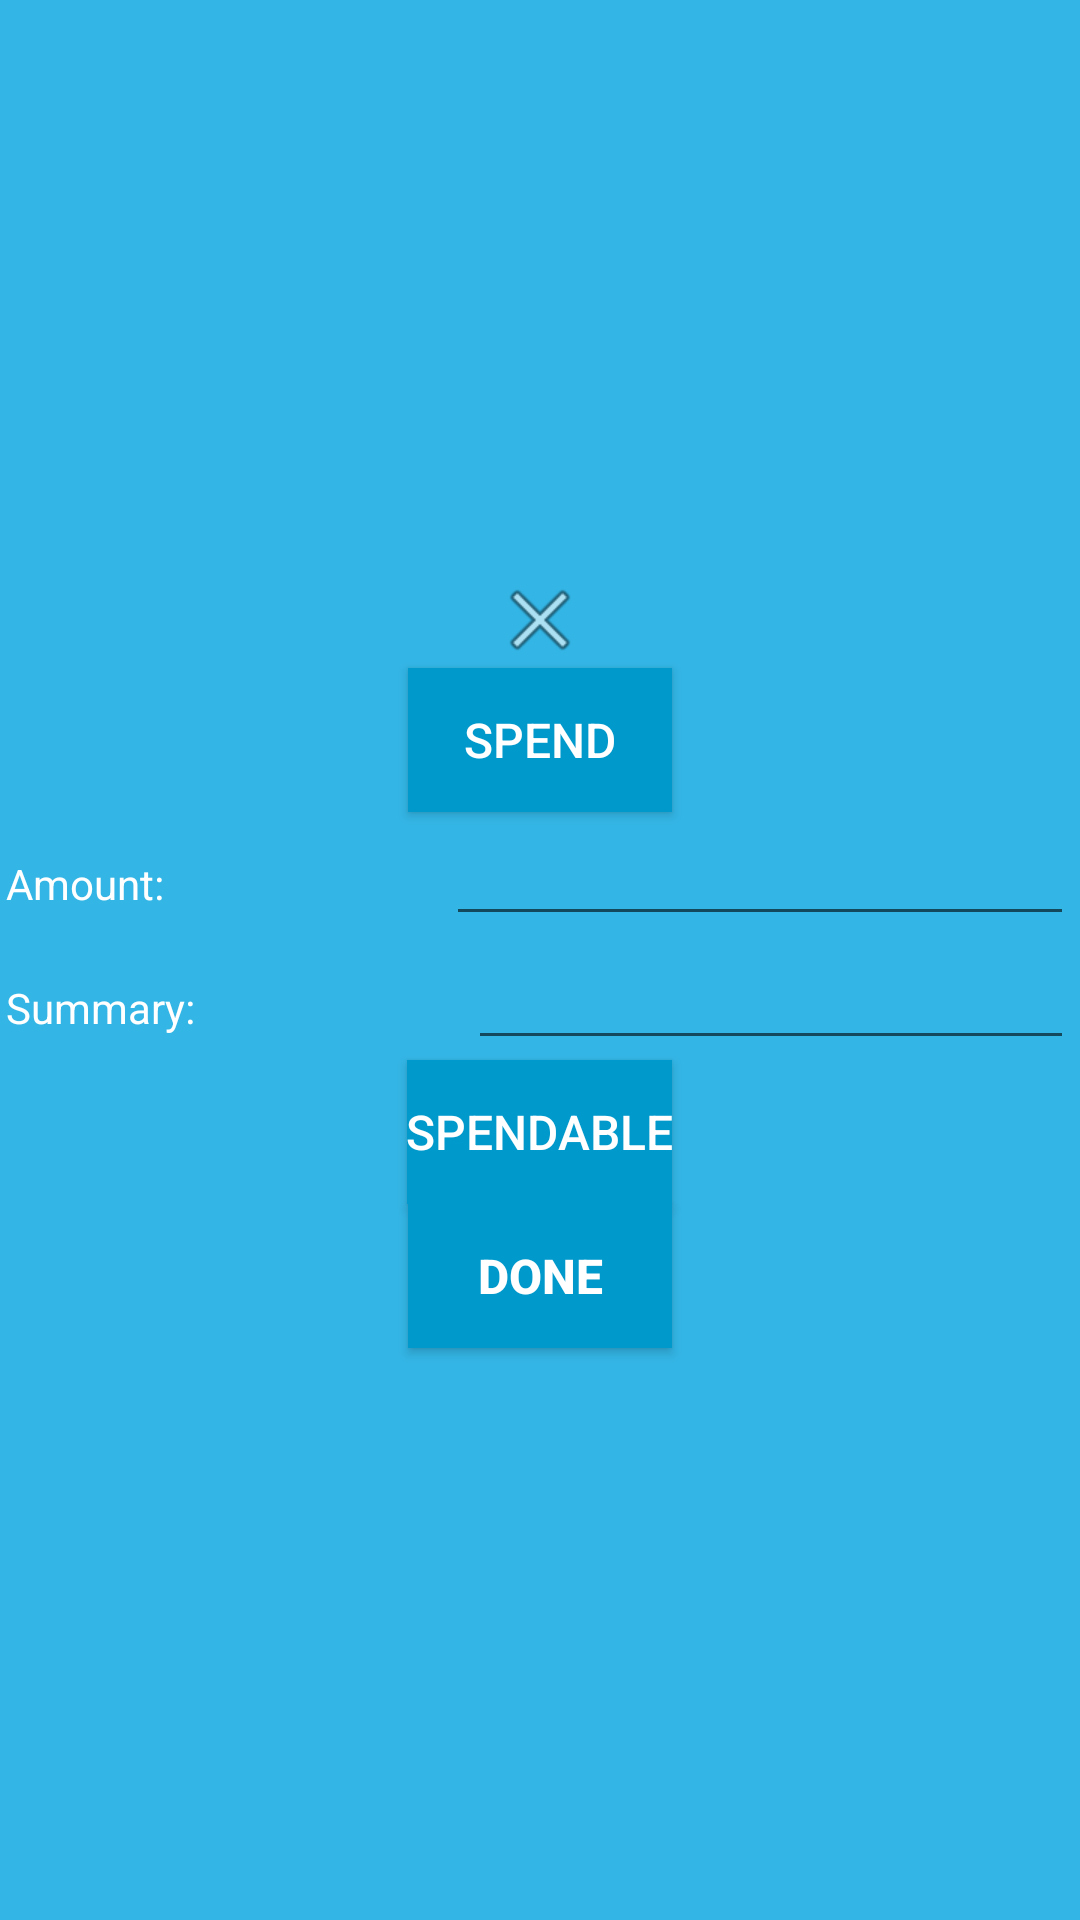

Locate icon controls on the screen. Image size 1080 x 1920, boxes as [x1, y1, x2, y2].
close clear cancel: [510, 590, 570, 650]
